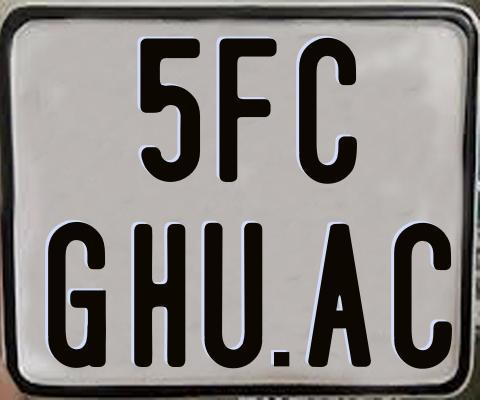5: (140, 38, 201, 183)
A: (305, 222, 370, 366)
C: (394, 222, 455, 372), (296, 37, 357, 185)
F: (217, 35, 275, 180)
G: (45, 221, 106, 368)
H: (131, 221, 187, 365)
U: (201, 222, 260, 371)
